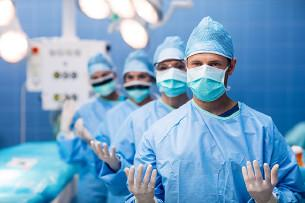OK: (189, 54, 229, 102), (156, 60, 187, 96), (126, 71, 153, 103), (93, 70, 116, 97)
